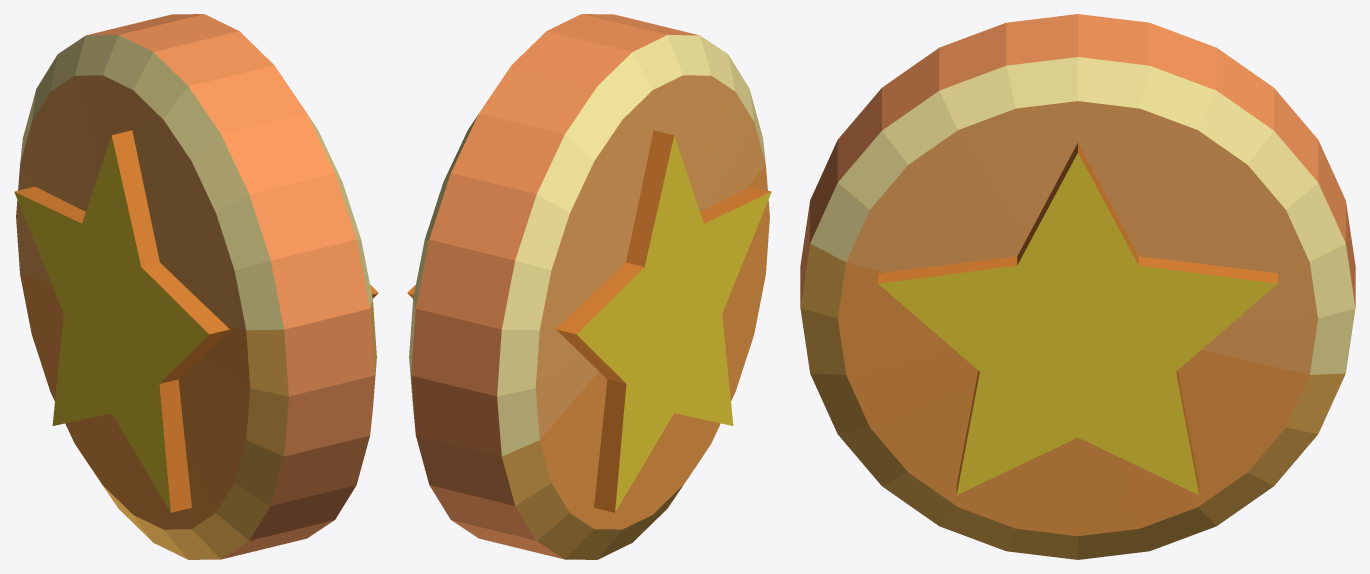
Rendered from CoinParent #24680.fbx.
3 renders of one model, left to right at view 1: azimuth 30°, elevation 25°; view 2: azimuth 150°, elevation 25°; view 3: azimuth 270°, elevation 25°, orthographic. The views are drawn at different scales.
Visible parts, largest first — view 1: coinModel; view 2: coinModel; view 3: coinModel.
Boxes of the visible parts, <box> form: coinModel: <box>14,14,378,559</box>; coinModel: <box>407,14,771,559</box>; coinModel: <box>800,14,1355,559</box>.
Size of the model in its own units: 0.284 by 0.7855 by 0.7855.
1 material, 1 textured.
